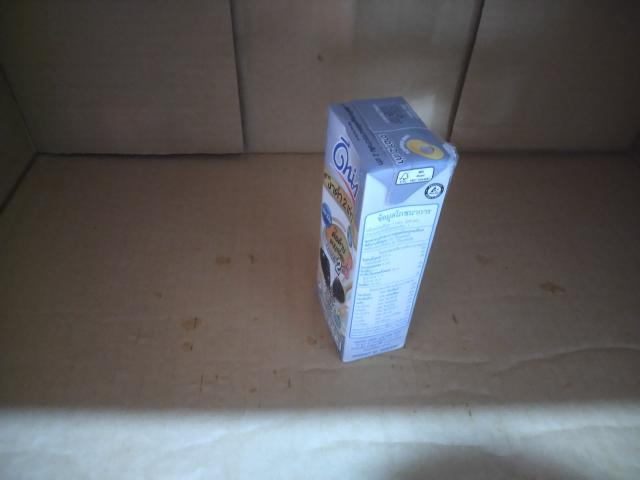drink_box: (292, 85, 467, 377)
